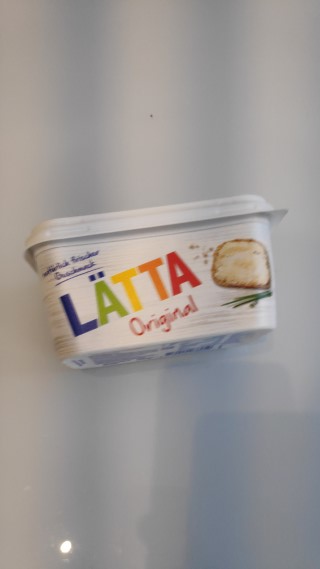laetta: (23, 191, 292, 372)
